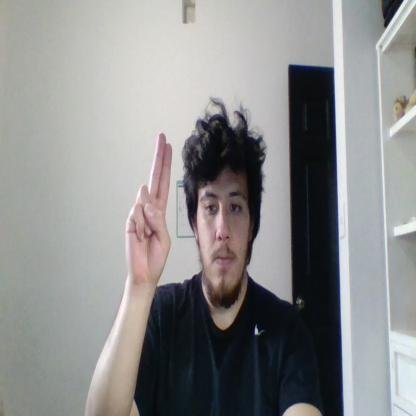U: (127, 133, 171, 287)
